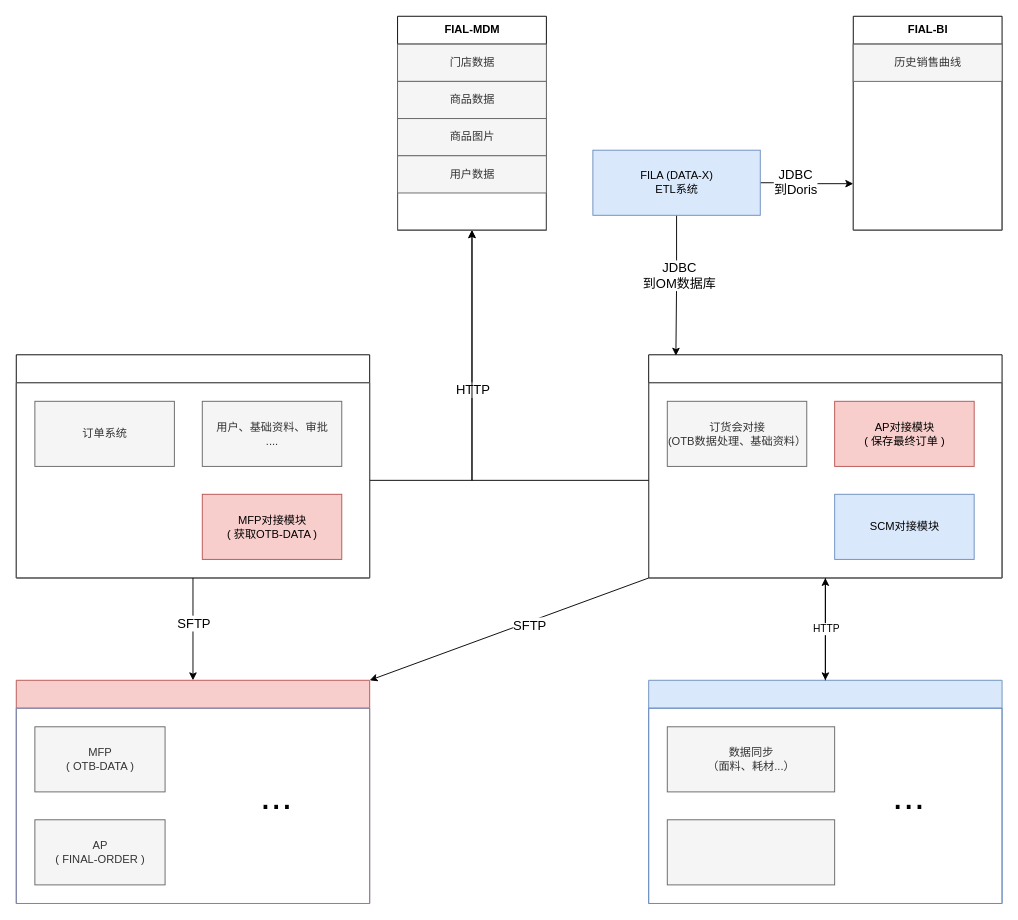
Image size: 1018x920. Some labels were removed from this diagram. The shapes that lost their labels are listed below. From the top down, each one's box as (x1, y1, x2, y2) in pixels, then its label:
(15, 354, 370, 578): LIFECYCLE-FAIR
(648, 354, 1002, 578): LIFECYCLE-OM
(15, 679, 370, 903): FILA-ORACLE
(648, 679, 1002, 903): FILA-SCM
(666, 819, 835, 885): 生产管理 （审批、通知、生产订单）
